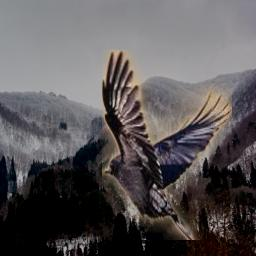Crow: (102, 50, 232, 240)
